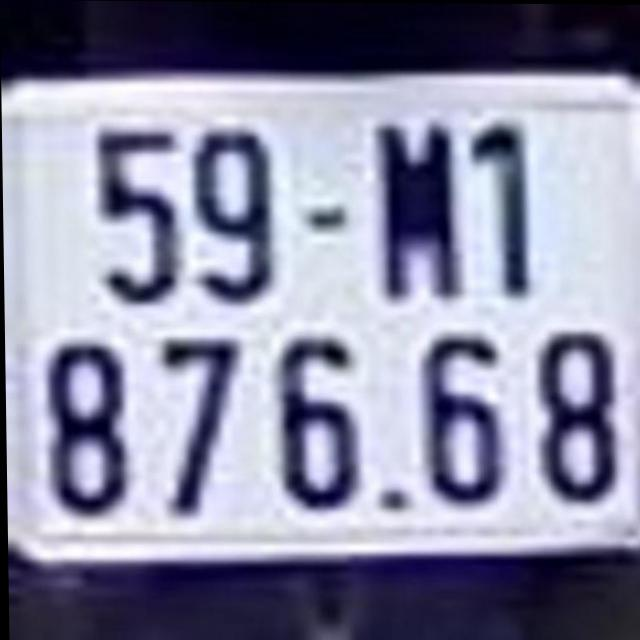1: (472, 117, 534, 292)
5: (94, 123, 180, 302)
6: (277, 335, 359, 511), (425, 332, 500, 498)
7: (157, 329, 240, 514)
8: (42, 336, 123, 508), (539, 328, 615, 496)
9: (193, 126, 271, 298)
M: (372, 116, 466, 308)
